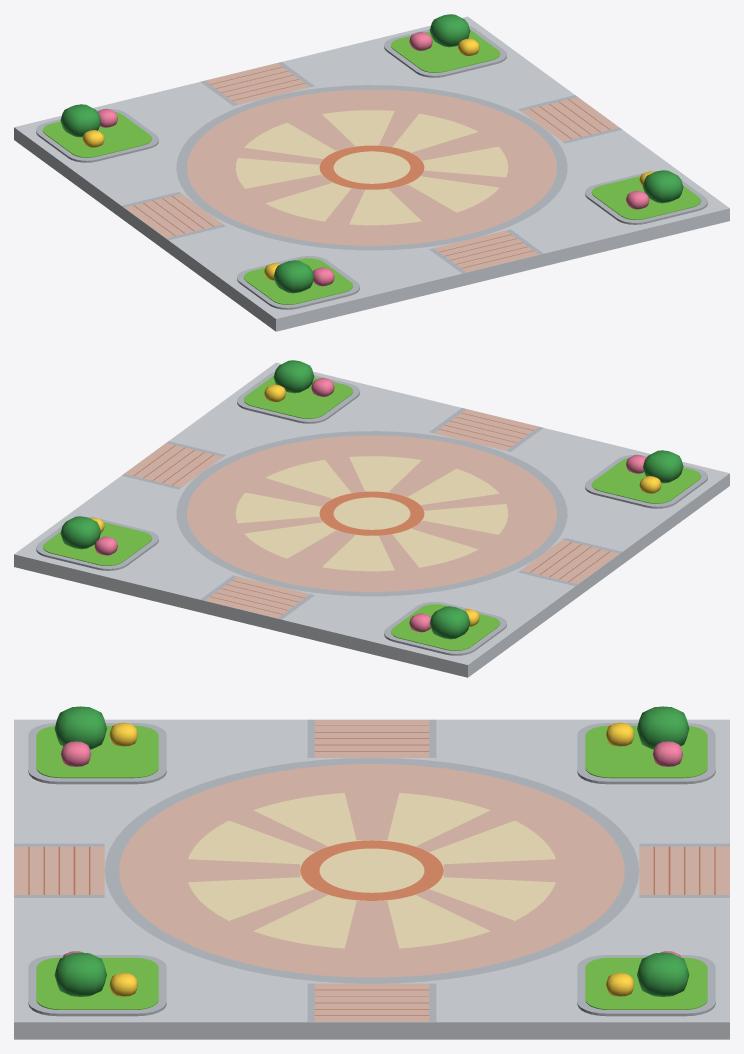
File: piso_praca.glb
3 views of the same model, one above another, from view 1: azimuth 30°, elevation 25°; view 2: azimuth 150°, elevation 25°; view 3: azimuth 270°, elevation 25° (orthographic). The views are drawn at different scales.
Parts seen in each view (by area): view 1: piso_praca; view 2: piso_praca; view 3: piso_praca.
Part boxes in pixels (<box>): piso_praca: <box>14,14,729,331</box>; piso_praca: <box>14,360,729,677</box>; piso_praca: <box>14,706,729,1039</box>.
Size of the model in its own units: 15 by 1.26 by 15.
1 material, 1 textured.
